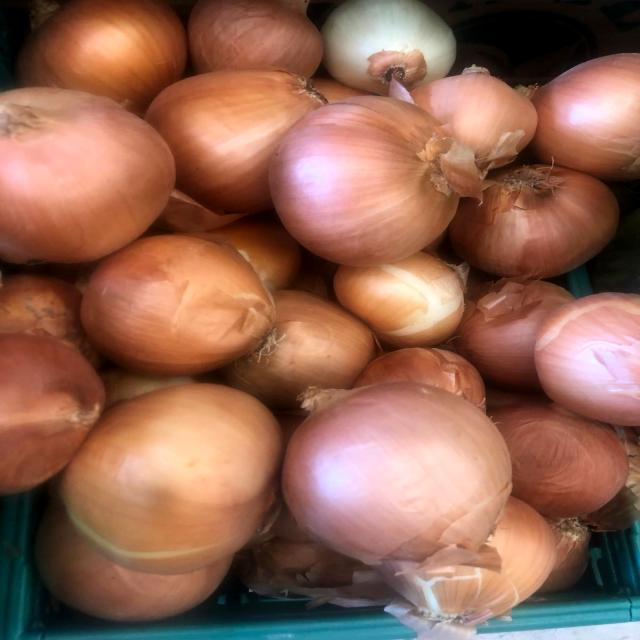tomato: (278, 376, 522, 576), (52, 373, 285, 567), (272, 90, 484, 267), (80, 223, 275, 373), (455, 143, 628, 287), (319, 243, 484, 349), (312, 2, 469, 93)
